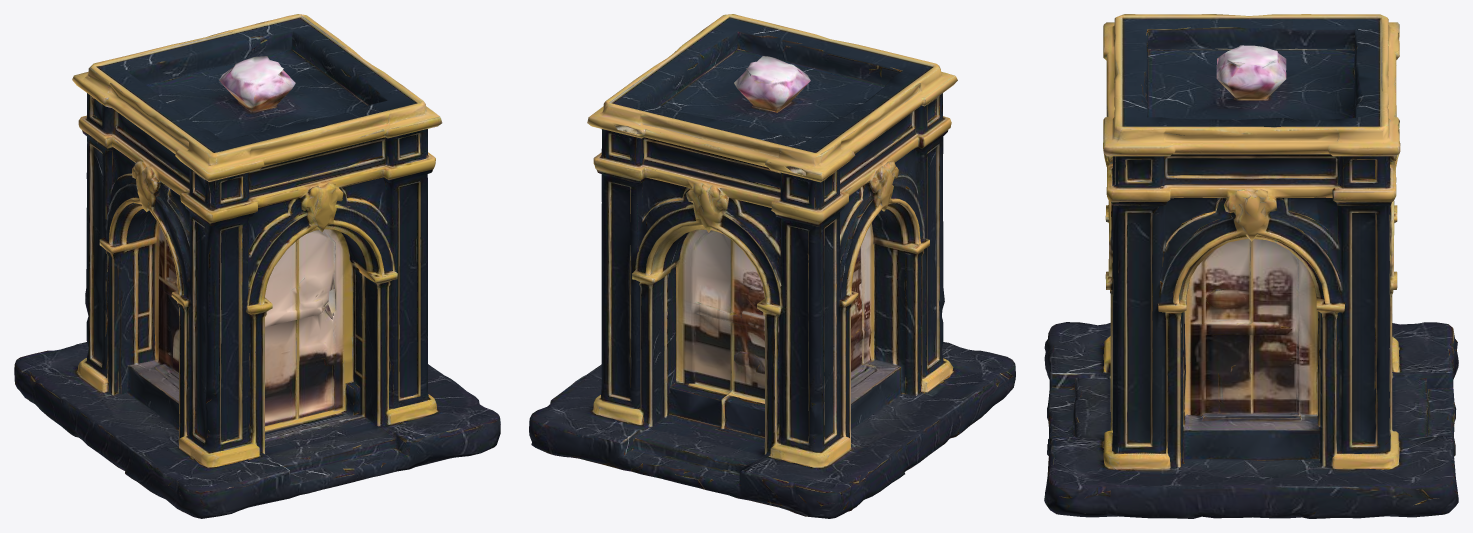
The model's file is upgrade.glb.
3 views of the same model, side by side, from view 1: azimuth 30°, elevation 25°; view 2: azimuth 150°, elevation 25°; view 3: azimuth 270°, elevation 25° (orthographic). The views are drawn at different scales.
Parts seen in each view (by area): view 1: Mesh_0; view 2: Mesh_0; view 3: Mesh_0.
Part boxes in pixels (x1=…): Mesh_0: x1=14, y1=14, x2=500, y2=518; Mesh_0: x1=529, y1=14, x2=1015, y2=518; Mesh_0: x1=1044, y1=14, x2=1458, y2=518.
Bounding box in the file's own units: 1.8 × 1.91 × 1.85.
Materials: 1 (1 with a texture image).
